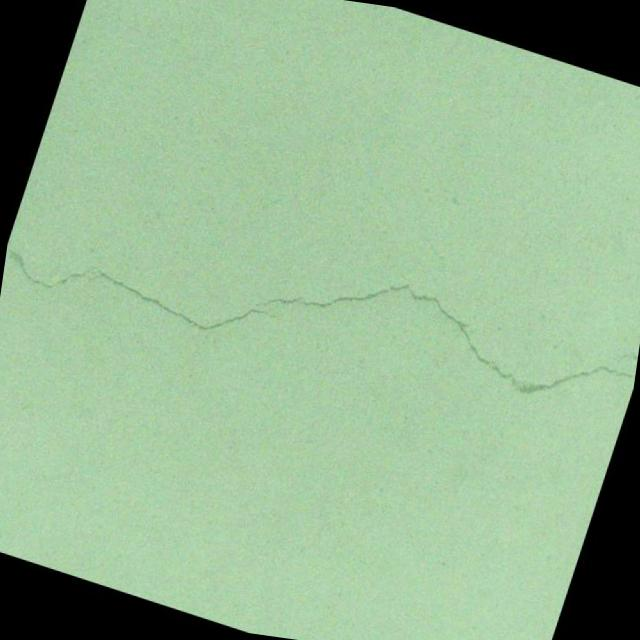crack: (0, 159, 640, 480), (605, 344, 639, 374)
